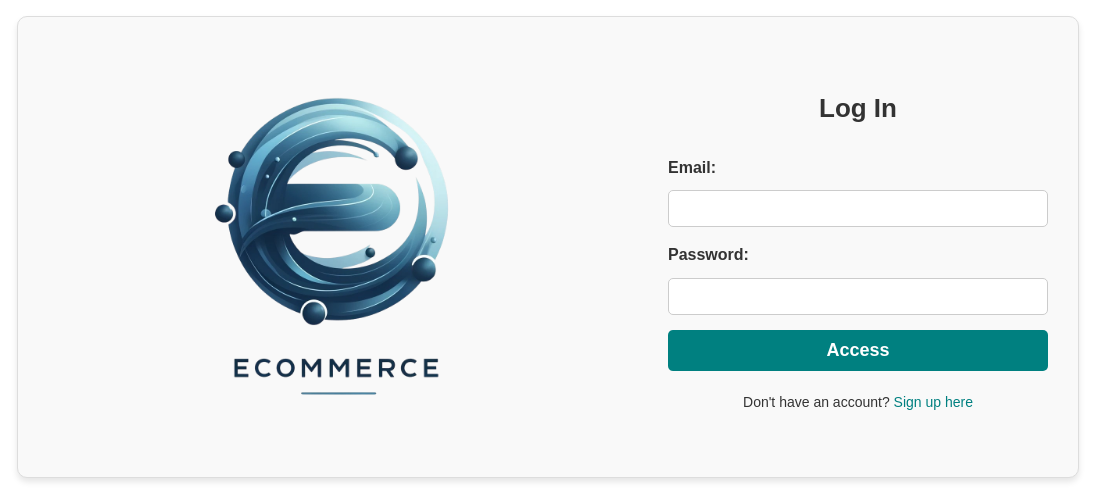
Test case: LoginPage › debería mostrar un mensaje de éxito y redirigir al perfil al iniciar sesión correctamente
Type "test@example.com" into the field labelled "Email:". click: (858, 209)
box: 668,190 -> 1048,227
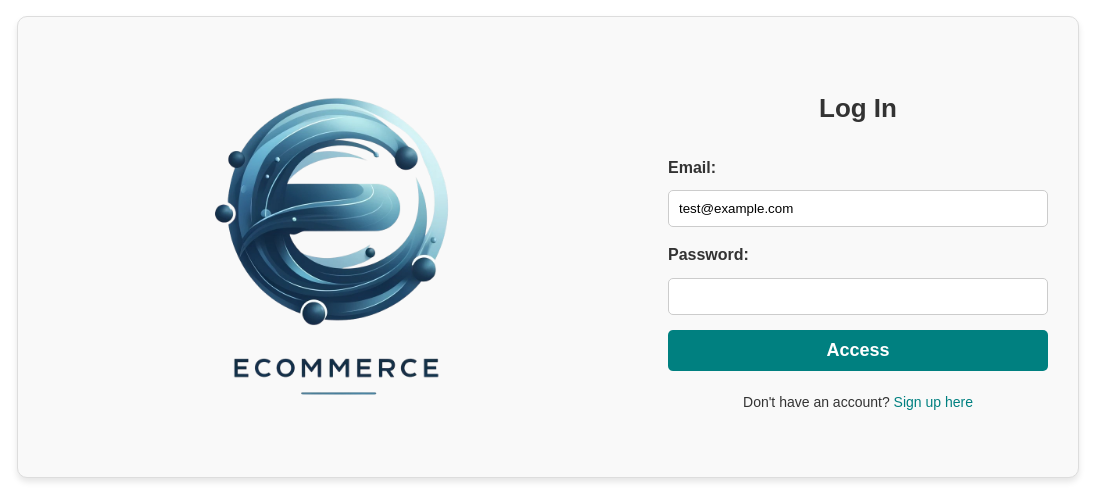
Type "password123" into the password field labelled "Password:". click: (858, 296)
box: 668,278 -> 1048,315
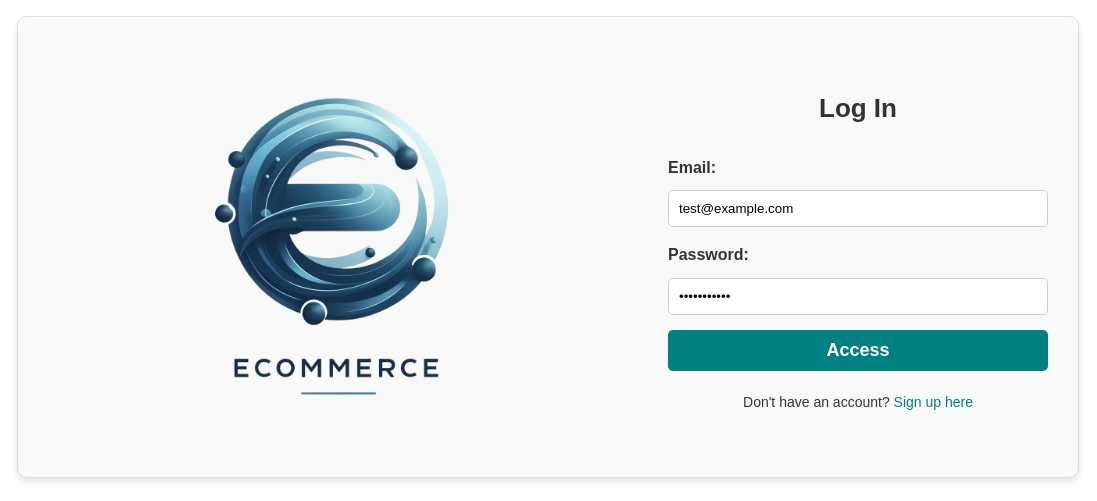
Click the button "Access". click: (858, 350)
box: 668,330 -> 1048,371
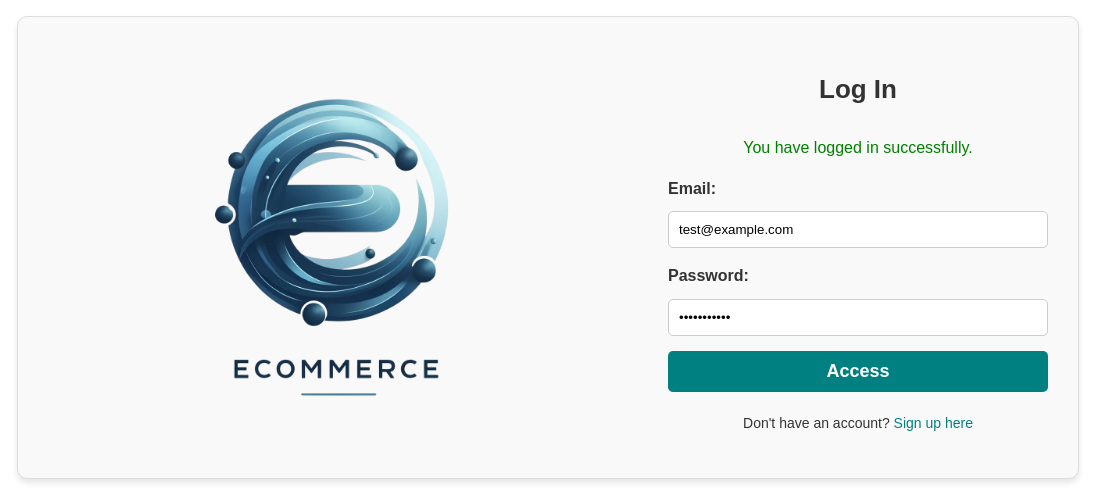
expect the text "You have logged in successfully." is shown: met, box 743,139 -> 973,156
